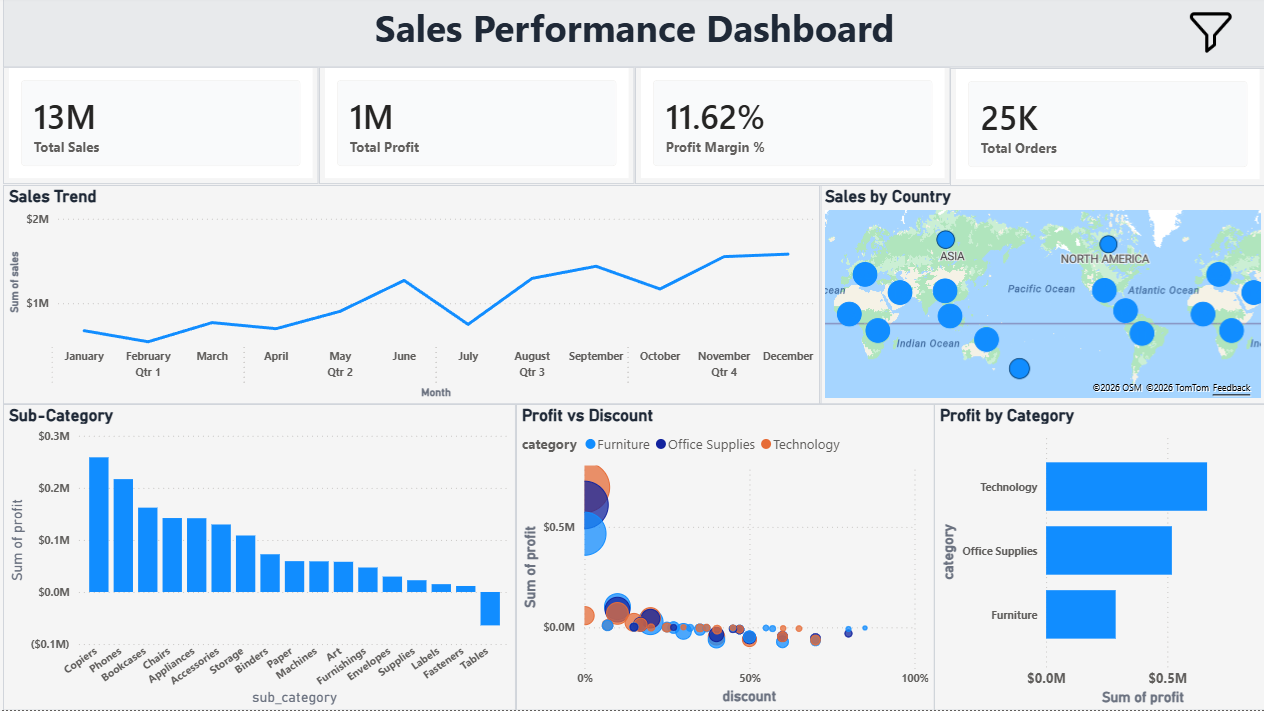

This screenshot's page, from the dashboard's own definition file:
{"tool":"powerbi","page":{"name":"Page 2","canvas":[1280,720],"ordinal":0},"visuals":[{"type":"lineChart","title":"  Sales Trend ","fields":{"Y":["Sum(SuperStoreOrders new.sales)"],"Category":["SuperStoreOrders new.order_date.Variation.Date Hierarchy.Quarter","SuperStoreOrders new.order_date.Variation.Date Hierarchy.Month"]},"box":[7.1,190.5,825,220.7],"z":0},{"type":"clusteredBarChart","title":"Profit by Category ","fields":{"Category":["SuperStoreOrders new.category"],"Y":["Sum(SuperStoreOrders new.profit)"]},"box":[945.5,411.2,334.5,309],"z":1000},{"type":"columnChart","title":"Sub-Category   ","fields":{"Category":["SuperStoreOrders new.sub_category"],"Y":["Sum(SuperStoreOrders new.profit)"]},"box":[7,411.2,516.9,309],"z":2000},{"type":"scatterChart","title":"Profit vs Discount    ","fields":{"X":["SuperStoreOrders new.discount"],"Series":["SuperStoreOrders new.category"],"Y":["Sum(SuperStoreOrders new.profit)"],"Size":["Sum(SuperStoreOrders new.sales)"]},"box":[523.8,411.2,421.6,309],"z":3000},{"type":"azureMap","title":" Sales by Country  ","fields":{"Category":["SuperStoreOrders new.country"],"Size":["SuperStoreOrders new.Total Sales"]},"box":[829.5,190.5,450.5,220.7],"z":4000},{"type":"cardVisual","fields":{"Data":["SuperStoreOrders new.Total Sales"]},"box":[7,72,318.3,118.5],"z":5000},{"type":"cardVisual","fields":{"Data":["SuperStoreOrders new.Total Orders"]},"box":[961.1,72.2,318.9,118.9],"z":6000},{"type":"cardVisual","fields":{"Data":["SuperStoreOrders new.Profit Margin %"]},"box":[643.7,72,318,118],"z":7000},{"type":"cardVisual","fields":{"Data":["SuperStoreOrders new.Total Profit"]},"box":[325.5,72,318,118],"z":8000},{"type":"textbox","box":[6.7,0,1273.3,72.2],"z":9000},{"type":"image","box":[1187.1,10.6,74,50.5],"z":10500}]}

Visuals, with their boxes in screenshot pixels (x1, y1, x2, y2), scaled from the page's 1280x720 canvas onto the 1264x711 screenshot:
"  Sales Trend " lineChart: bbox=(7, 188, 822, 406)
"Profit by Category " clusteredBarChart: bbox=(934, 406, 1263, 710)
"Sub-Category   " columnChart: bbox=(7, 406, 517, 710)
"Profit vs Discount    " scatterChart: bbox=(517, 406, 934, 710)
" Sales by Country  " azureMap: bbox=(819, 188, 1263, 406)
cardVisual - SuperStoreOrders new.Total Sales: bbox=(7, 71, 321, 188)
cardVisual - SuperStoreOrders new.Total Orders: bbox=(949, 71, 1263, 189)
cardVisual - SuperStoreOrders new.Profit Margin %: bbox=(636, 71, 950, 188)
cardVisual - SuperStoreOrders new.Total Profit: bbox=(321, 71, 635, 188)
textbox: bbox=(7, 0, 1263, 71)
image: bbox=(1172, 10, 1245, 60)
